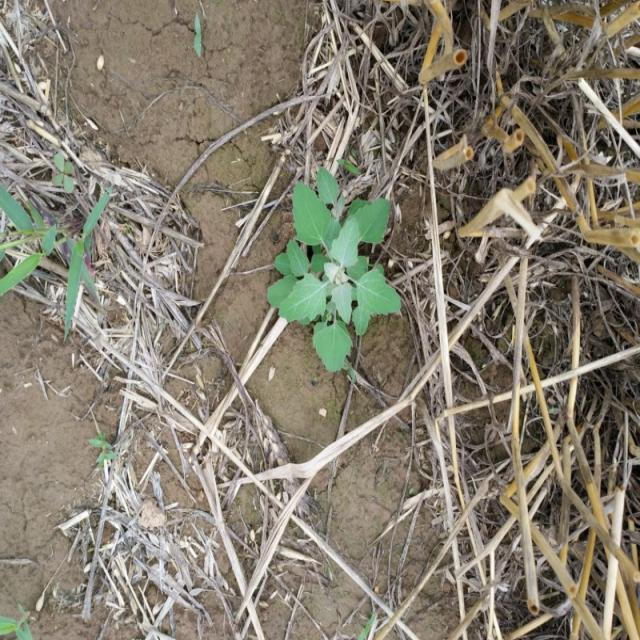goosefoots: (272, 184, 411, 373)
